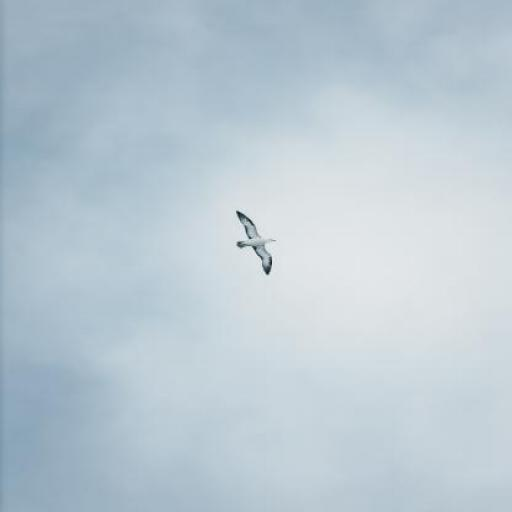bird: (234, 210, 279, 276)
